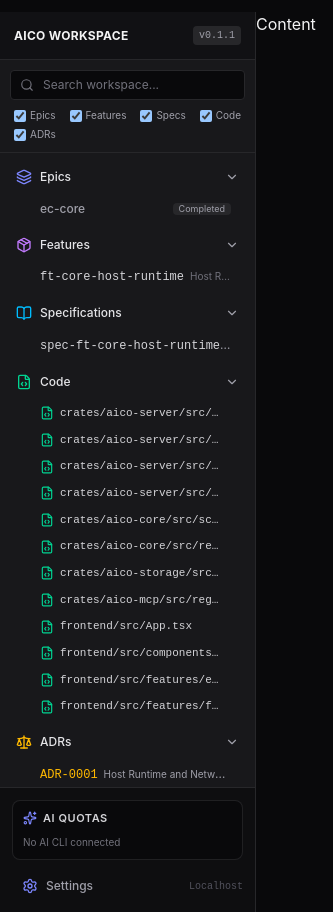
Scenario: ShellLayoutSearch: Sidebar Tree Fuzzy Filtering & Section Auto-Expansion › renders clear (X) button in Search workspace bar when query is non-empty and resets query on click or Escape
Type "nonexistent-query-xyz" into the field with test id "sidebar-search-input" at (128, 85), box x1=10 y1=70 x2=245 y2=100
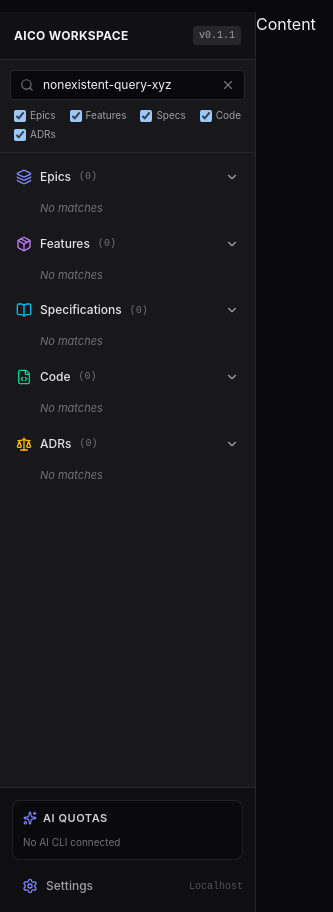
Expected: the element with test id "nav-feature-ft-core-host-runtime" is gone
Expected: the button with test id "sidebar-search-clear-btn" is shown
Click the button with test id "sidebar-search-clear-btn" at (228, 85), box x1=219 y1=76 x2=237 y2=94
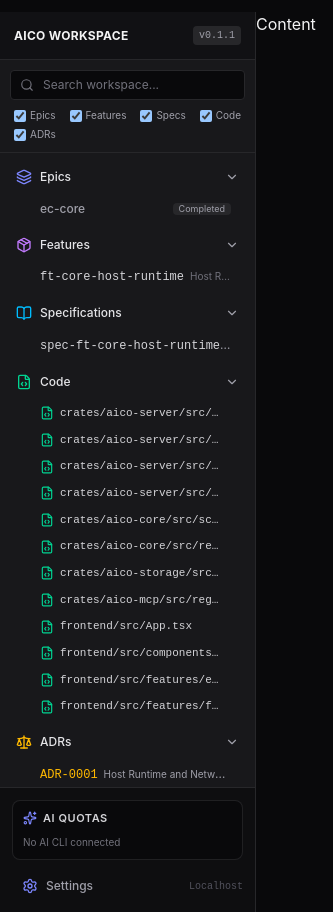
Expected: the field with test id "sidebar-search-input" is empty
Expected: the button with test id "sidebar-search-clear-btn" is gone
Expected: the element with test id "nav-feature-ft-core-host-runtime" is shown, x1=40 y1=270 x2=255 y2=284
Type "nonexistent-query-xyz" into the field with test id "sidebar-search-input" at (128, 85), box x1=10 y1=70 x2=245 y2=100
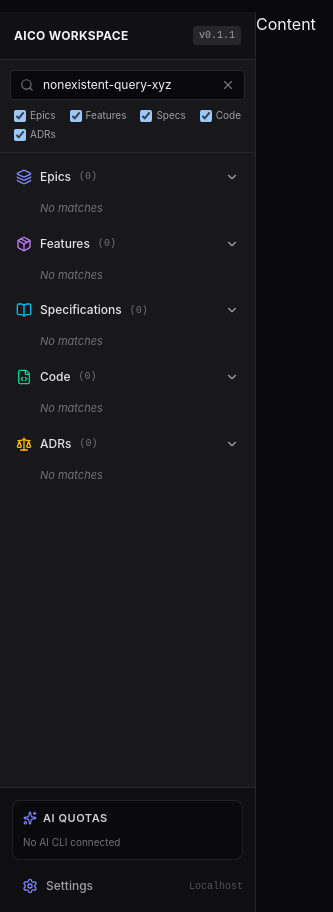
Expected: the button with test id "sidebar-search-clear-btn" is shown, x1=219 y1=76 x2=237 y2=94
Press Escape in the field with test id "sidebar-search-input", box x1=10 y1=70 x2=245 y2=100
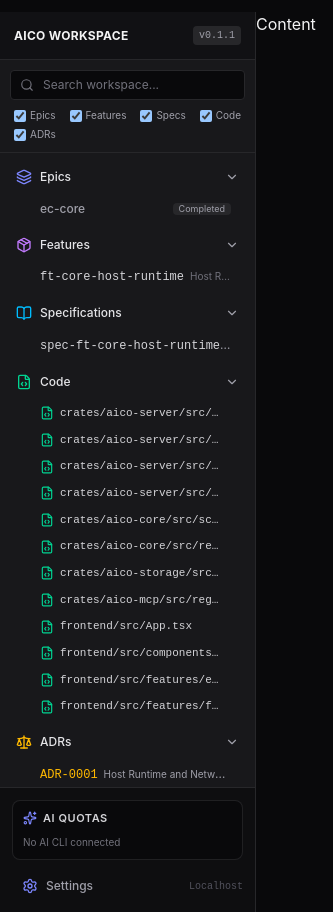
Expected: the field with test id "sidebar-search-input" is empty, x1=10 y1=70 x2=245 y2=100
Expected: the button with test id "sidebar-search-clear-btn" is gone
